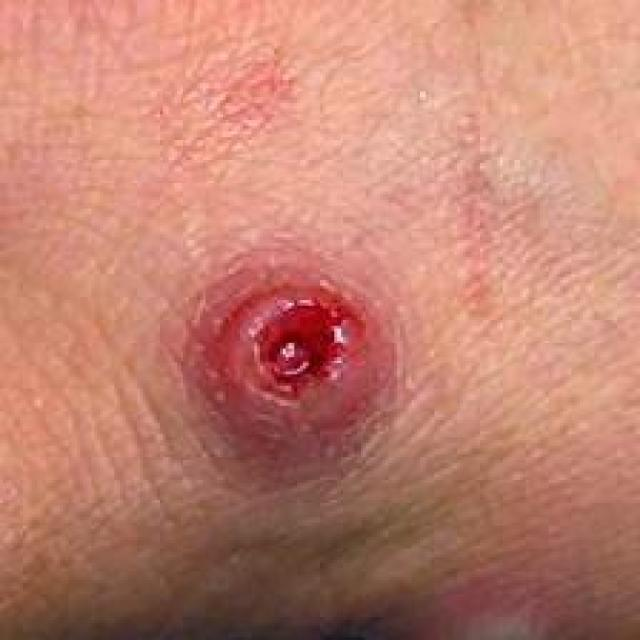monkeypox: (136, 203, 420, 574)
